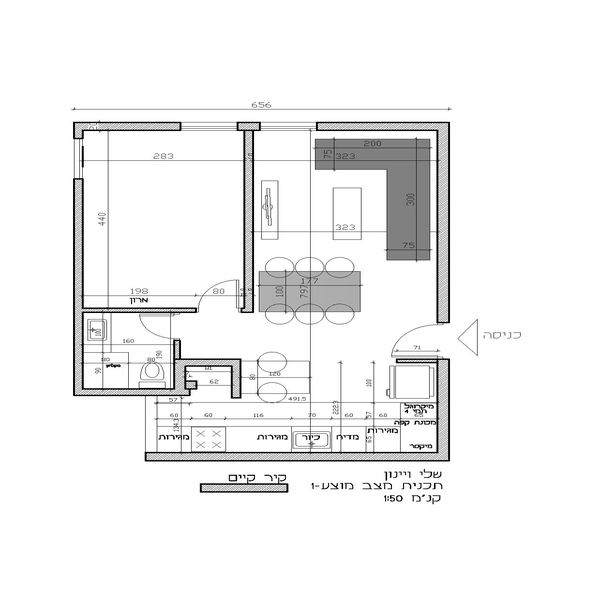door: (385, 323, 440, 358), (196, 272, 239, 315), (136, 306, 179, 342)
room: (240, 108, 454, 323), (64, 115, 260, 321), (227, 314, 454, 459), (70, 300, 242, 397), (127, 354, 257, 460)
wall: (143, 449, 455, 466), (430, 116, 454, 322), (239, 112, 263, 315), (68, 175, 84, 397), (430, 356, 455, 459), (80, 384, 194, 403), (315, 119, 456, 133), (72, 124, 185, 135), (173, 355, 240, 371), (172, 350, 192, 397), (86, 307, 198, 315), (229, 346, 240, 404)
window: (262, 114, 319, 139), (185, 116, 237, 141), (69, 139, 95, 175)
